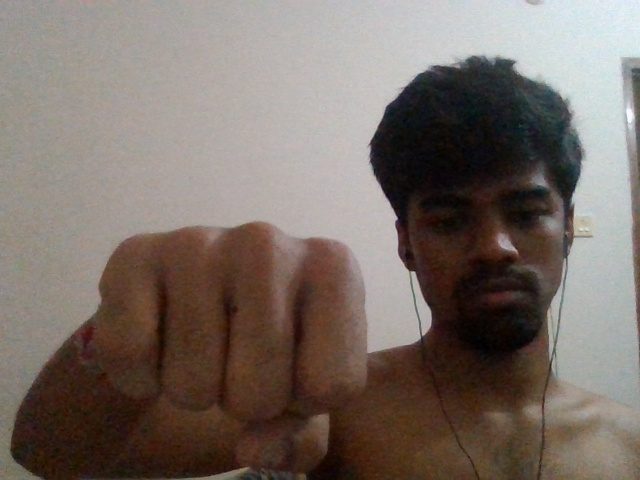Yes: (92, 216, 375, 480)
